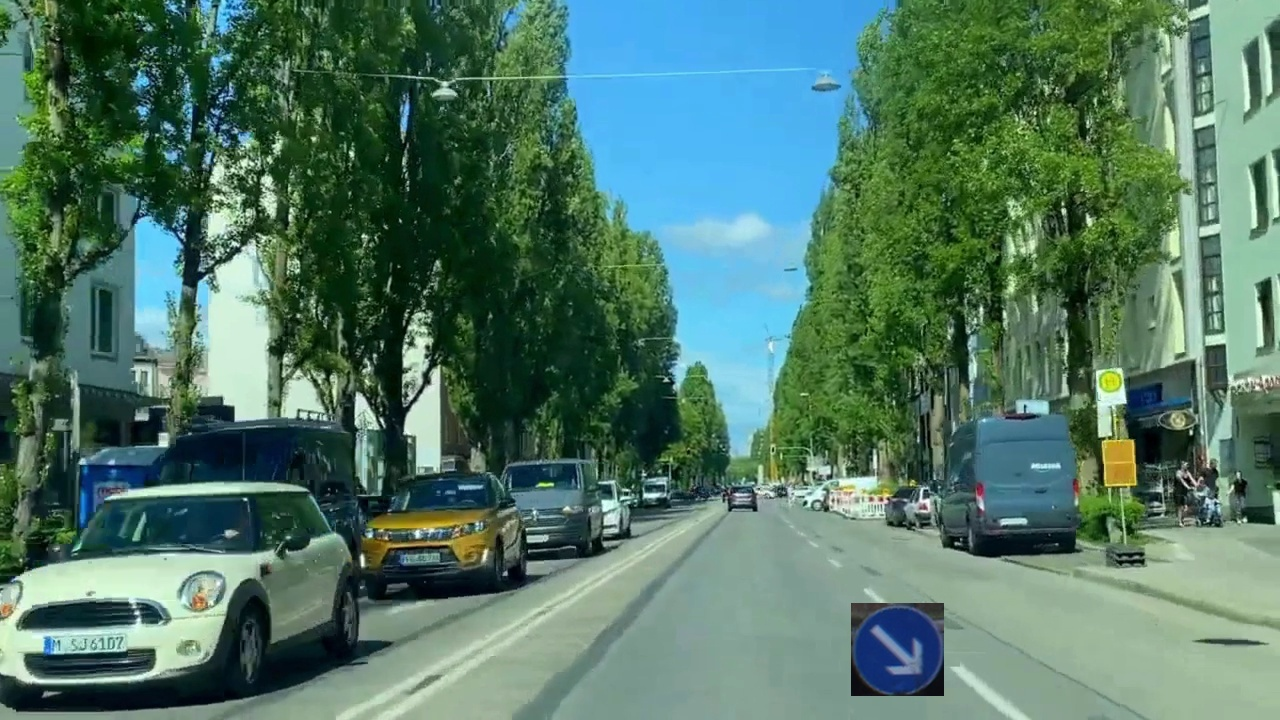Keep right: (851, 603, 944, 696)
